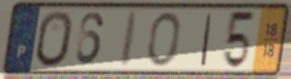5: (222, 9, 257, 71)
6: (75, 11, 106, 67)
I: (118, 9, 141, 70), (199, 12, 215, 68)
O: (34, 9, 75, 69), (146, 10, 182, 69)
